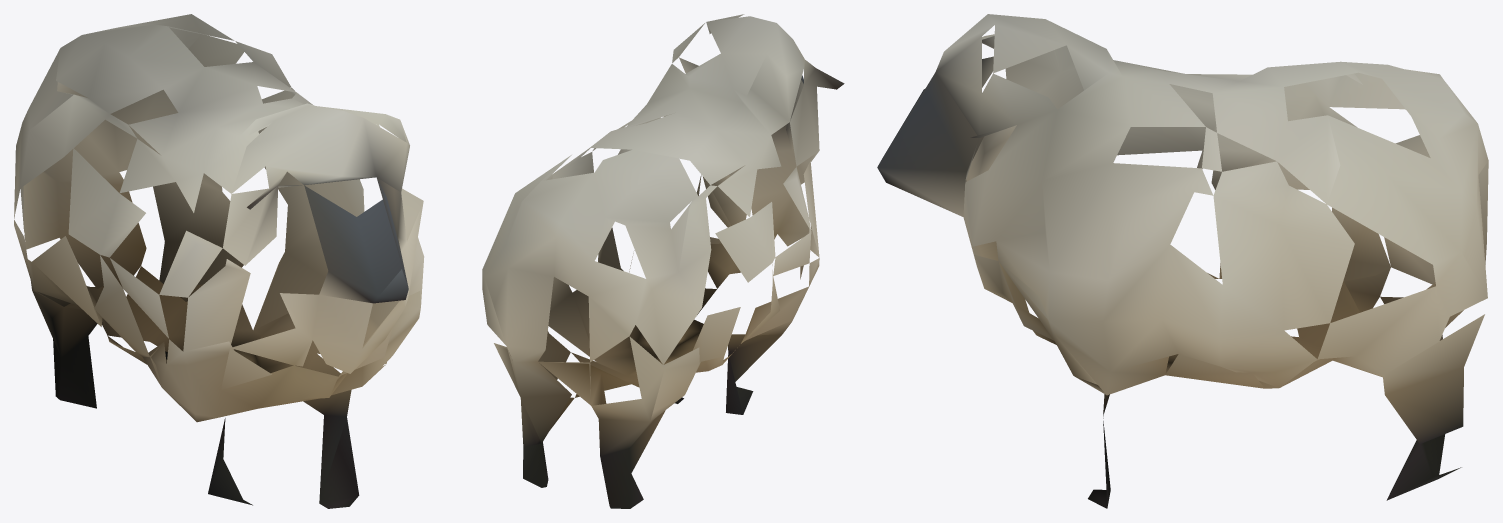
Rendered from animal_sheep.glb.
3 renders of one model, left to right at view 1: azimuth 30°, elevation 25°; view 2: azimuth 150°, elevation 25°; view 3: azimuth 270°, elevation 25°, orthographic. The views are drawn at different scales.
Visible parts, largest first — view 1: world; view 2: world; view 3: world.
Boxes of the visible parts, x1,y1,x2,y2 form: world: [14, 14, 424, 508]; world: [482, 14, 844, 508]; world: [877, 14, 1488, 508].
Size of the model in its own units: 0.6034 by 0.9466 by 1.17.
